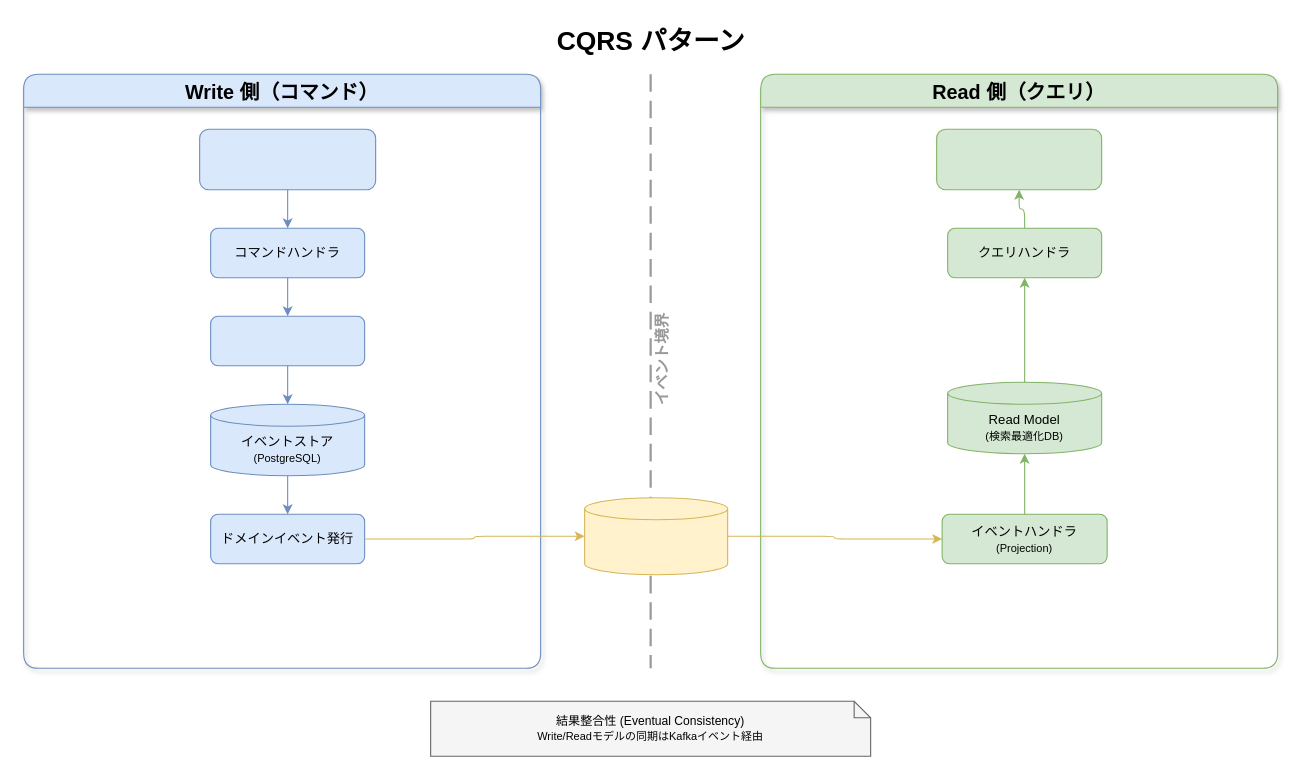
Image size: 1304x776. Some labels were removed from this diagram. Here are the shapes that lost their labels. From the top down, the centre of each, then its label:
At [287,159]: "コマンド (Create / Update / Delete)".
At [1019,159]: "クエリ結果 (Read API)".
At [287,340]: "集約 (Aggregate)".
At [656,536]: "Kafka Topic ドメインイベント".
